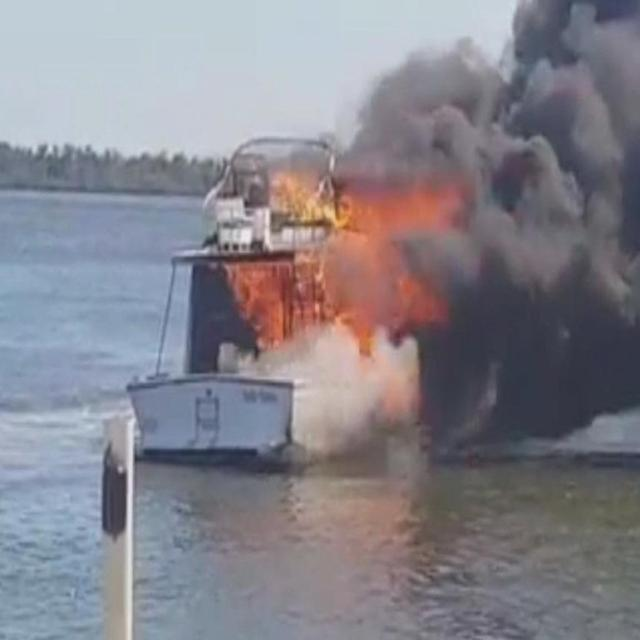Fire: (219, 244, 373, 351), (269, 162, 359, 241)
